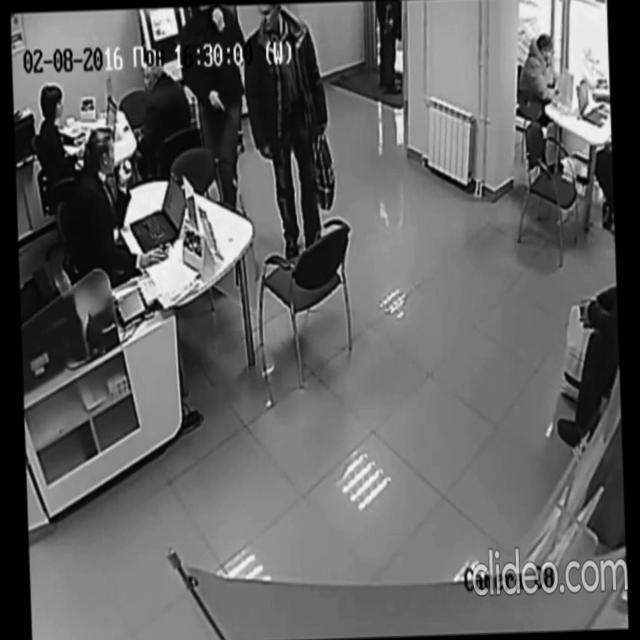gun: (206, 82, 234, 128)
person: (241, 0, 334, 263), (68, 123, 168, 287), (516, 28, 566, 174), (34, 82, 90, 202)
person with a gun: (176, 2, 254, 236)
